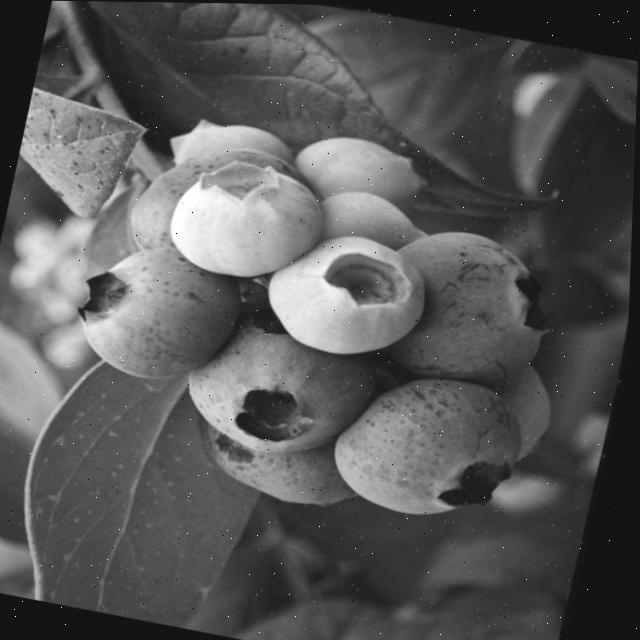RipeBlueBerry: (319, 353, 546, 538), (372, 211, 575, 398), (174, 306, 389, 476), (62, 224, 264, 399)
UnripeBlueBerry: (252, 213, 448, 374), (154, 143, 339, 295)
